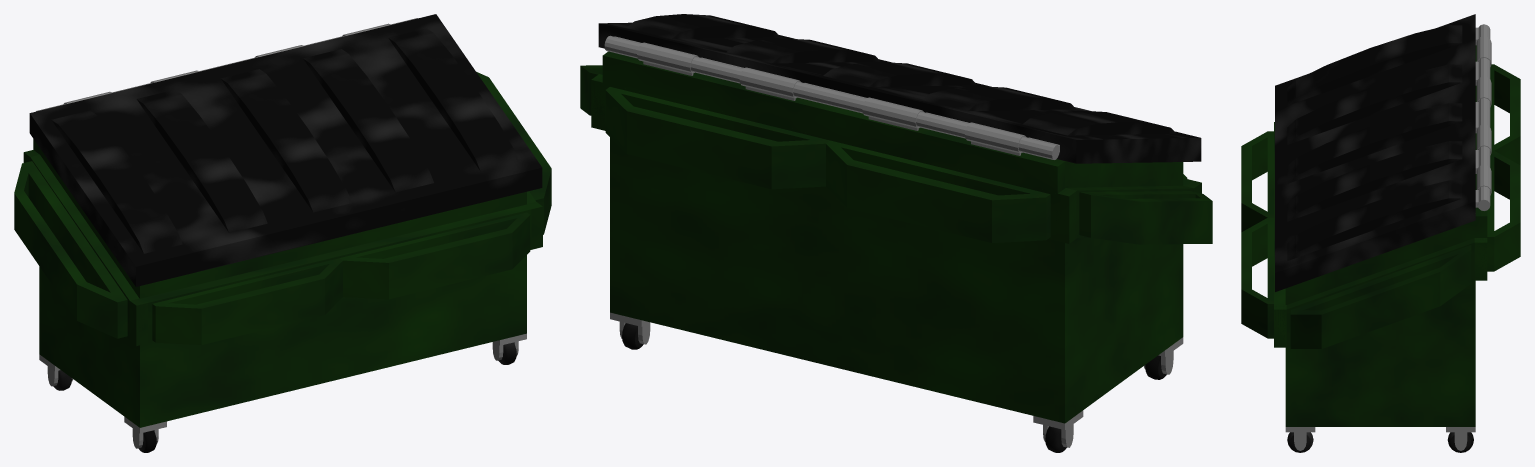
File: GarbageBin 1.fbx
3 renders of one model, left to right at view 1: azimuth 30°, elevation 25°; view 2: azimuth 150°, elevation 25°; view 3: azimuth 270°, elevation 25°, orthographic. The views are drawn at different scales.
Parts seen in each view (by area): view 1: GarbageBin; view 2: GarbageBin; view 3: GarbageBin.
Part boxes in pixels (x1,y1,x2,y2): GarbageBin: [14, 14, 551, 452]; GarbageBin: [580, 14, 1212, 452]; GarbageBin: [1241, 14, 1520, 452].
Size of the model in its own units: 491 by 273 by 265.
